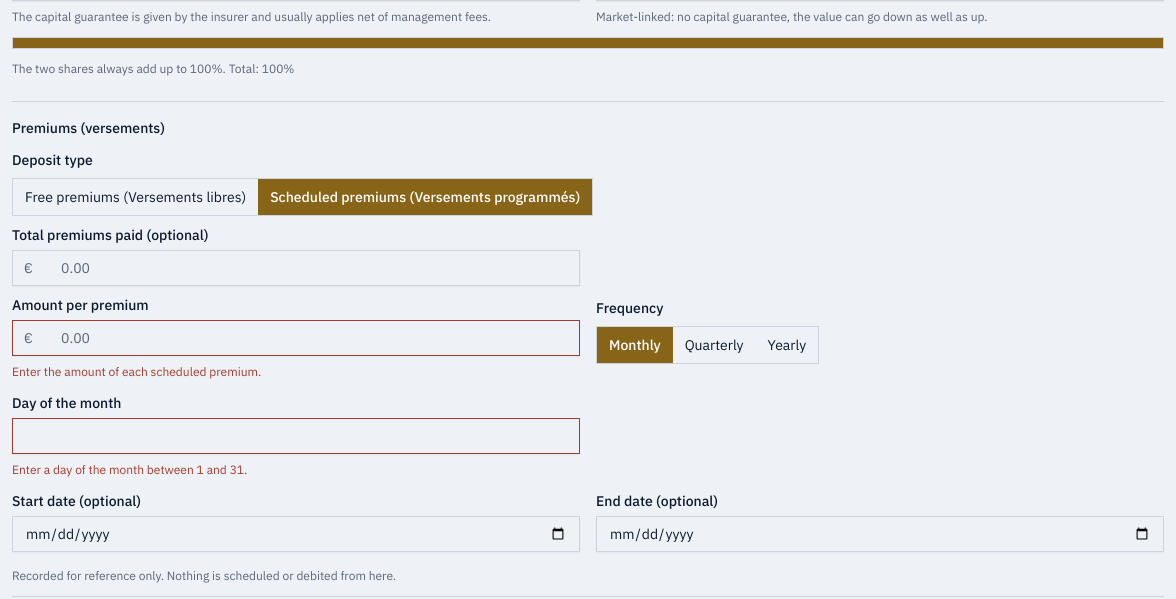
Test: AssuranceVieFields: premiums › validates the programmed premium and clears the messages once fixed
(page scrolled)
Expected: the text "Enter the amount of each scheduled premium." is shown, [12, 364, 261, 379]
Expected: the text "Enter a day of the month between 1 and 31." is shown, [12, 462, 247, 477]
In the number field labelled "Amount per premium": (296, 338) [12, 320, 580, 356], type "250"
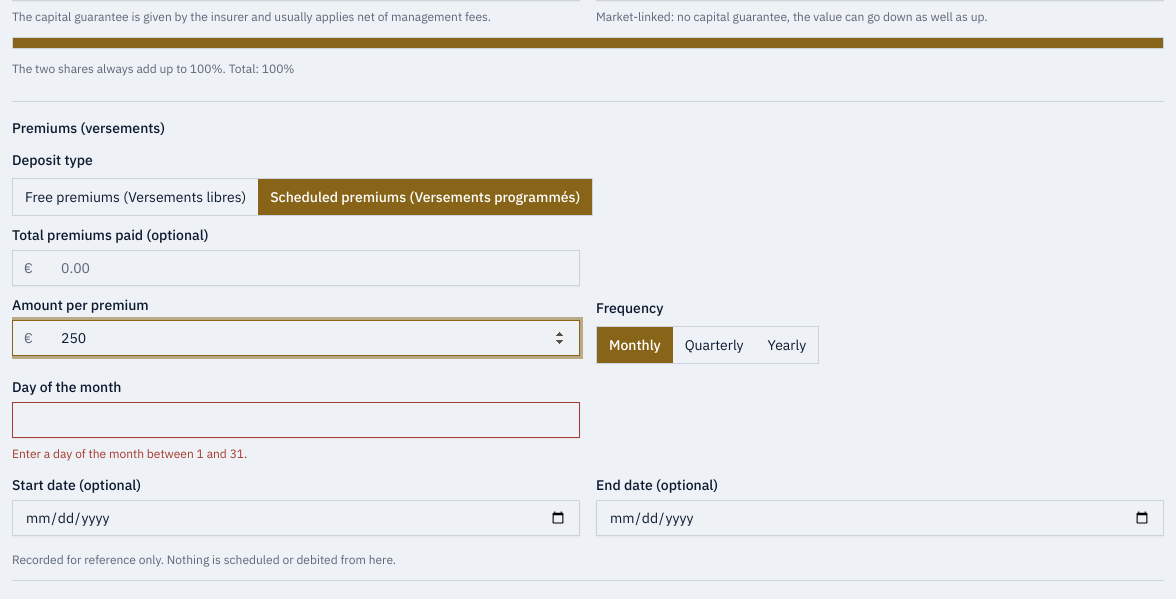
In the number field labelled "Day of the month": (296, 420) [12, 402, 580, 438], type "40"
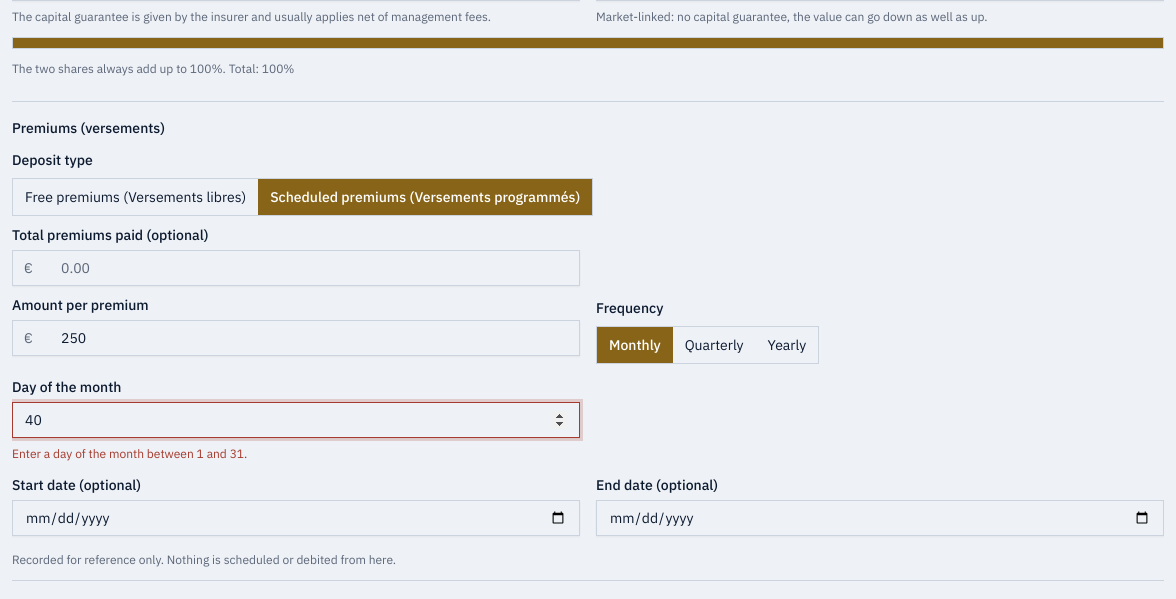
Expected: the text "Enter the amount of each scheduled premium." is not shown
Expected: the text "Enter a day of the month between 1 and 31." is shown, [12, 446, 247, 461]
Replace the text in the number field labelled "Day of the month" with "5": (296, 420) [12, 402, 580, 438]
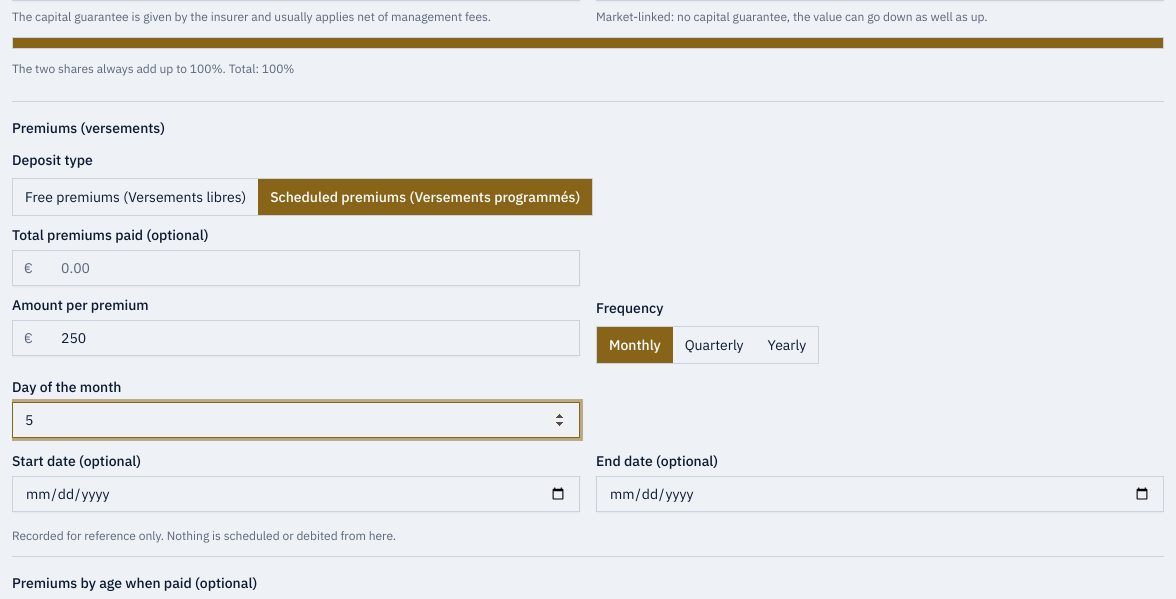
Result: the message "Enter a day of the month between 1 and 31." is gone
